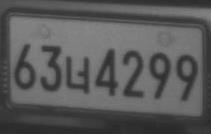2: (121, 50, 145, 98)
3: (40, 44, 62, 92)
4: (93, 48, 119, 96)
6: (14, 43, 36, 90)
9: (174, 54, 199, 102), (148, 51, 171, 99)
너: (65, 54, 90, 96)
